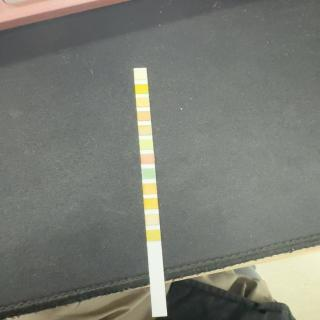mark: (146, 213, 160, 226), (146, 230, 160, 242), (144, 199, 158, 209), (143, 184, 157, 194), (142, 169, 156, 179), (141, 154, 155, 164), (140, 140, 154, 150), (138, 126, 152, 136), (137, 110, 151, 120), (136, 98, 150, 108), (135, 84, 149, 94), (134, 70, 148, 80)
